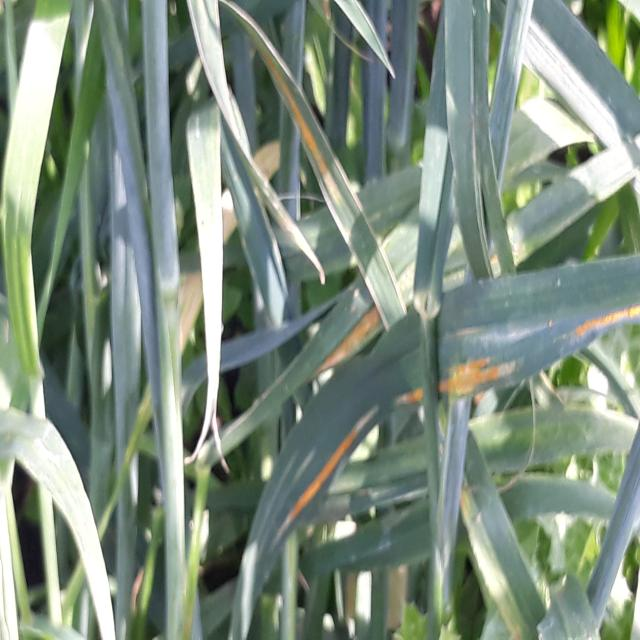yellow_rust: (231, 28, 640, 596)
